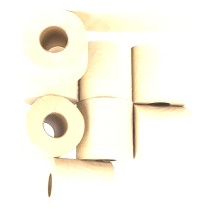tissue: (14, 4, 218, 86), (9, 90, 88, 165), (39, 153, 121, 220), (72, 93, 137, 165), (127, 102, 199, 166), (73, 36, 135, 109), (128, 38, 190, 109), (18, 51, 82, 109)
